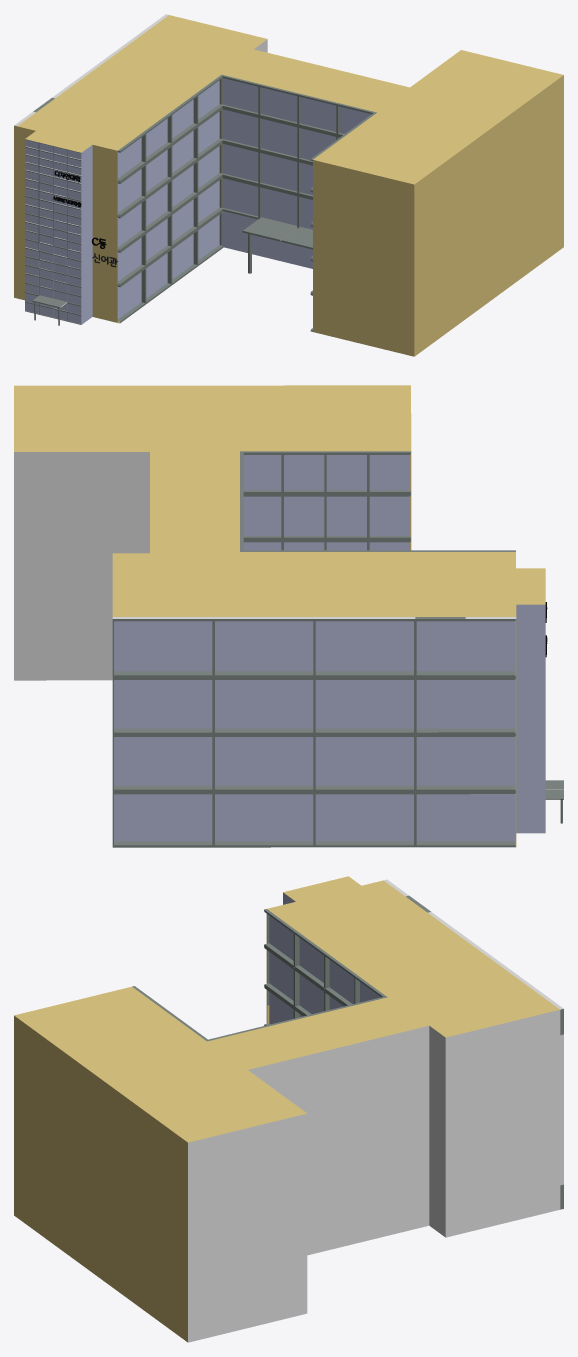
3 views of the same model, one above another, from view 1: azimuth 30°, elevation 25°; view 2: azimuth 150°, elevation 25°; view 3: azimuth 270°, elevation 25° (orthographic). The views are drawn at different scales.
Visible parts, largest first — view 1: C; view 2: C; view 3: C.
Part boxes in pixels (x1,y1,x2,y2): C: [14, 14, 563, 356]; C: [14, 385, 563, 847]; C: [14, 876, 563, 1342].
Size of the model in its own units: 11504 by 4096 by 9966.
